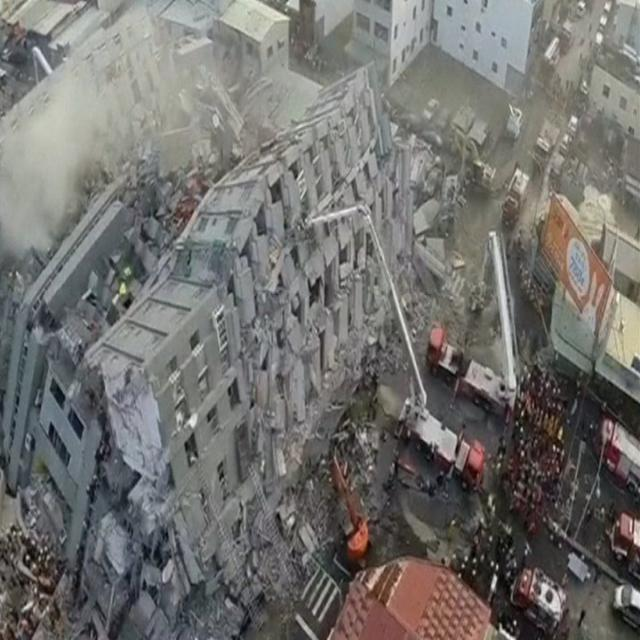collapsed_building: (0, 21, 395, 552)
